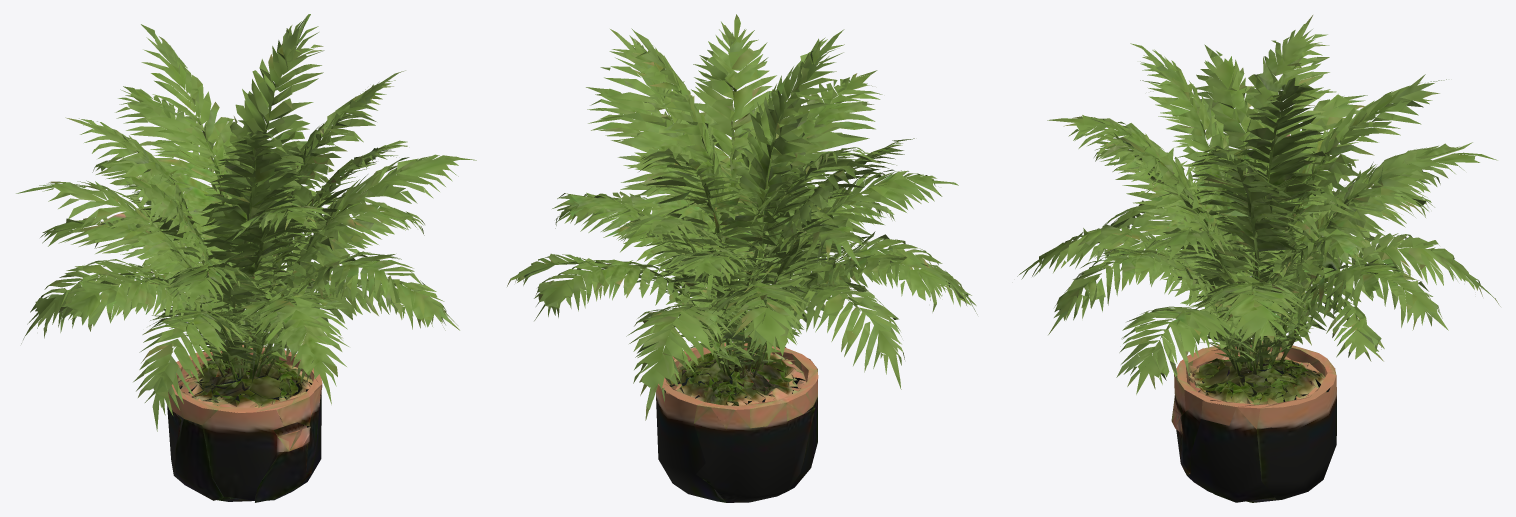
The model's file is planter.glb.
The picture shows the model from 3 angles, left to right: view 1: azimuth 30°, elevation 25°; view 2: azimuth 150°, elevation 25°; view 3: azimuth 270°, elevation 25°; orthographic projection. The views are drawn at different scales.
Visible parts, largest first — view 1: room_planter; view 2: room_planter; view 3: room_planter.
Boxes of the visible parts, box(x1,y1,x2,y2) form: room_planter: box(16, 14, 476, 502); room_planter: box(507, 14, 977, 502); room_planter: box(1017, 15, 1500, 502).
Size of the model in its own units: 1.37 by 1.49 by 1.49.
Materials: 1 (1 with a texture image).
